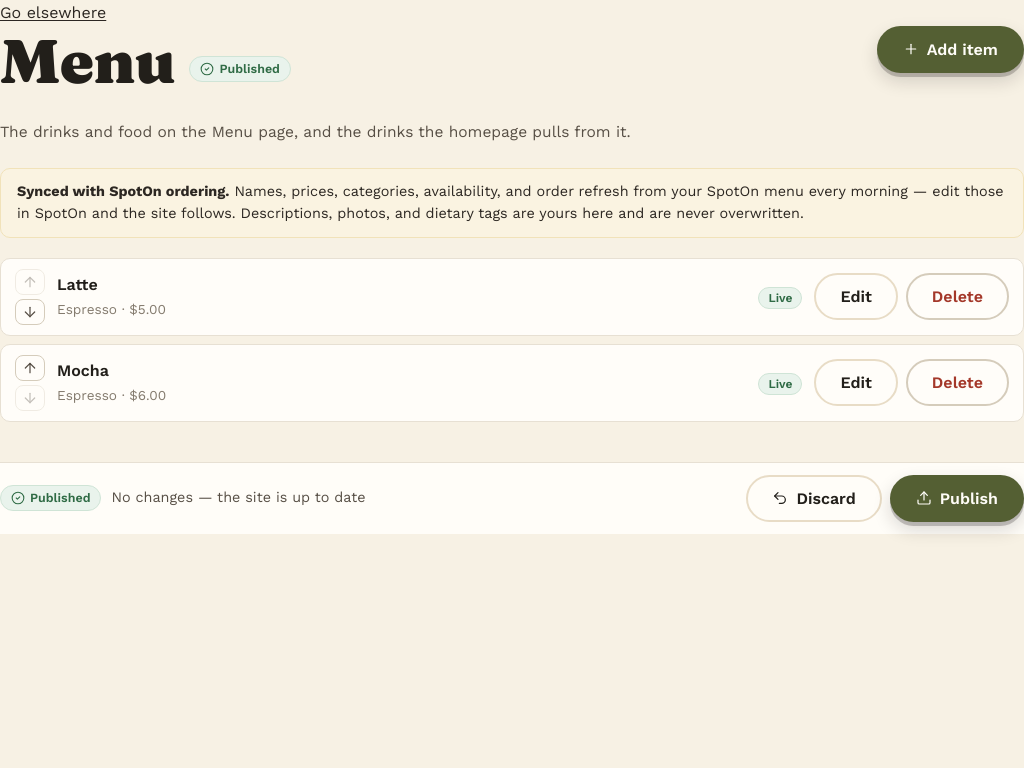
Test case: Lists (Menu via CollectionManager) › re-ordering and adding are staged until Publish
Click the button named "move mocha up" at [30, 368], box [15,354,45,380]
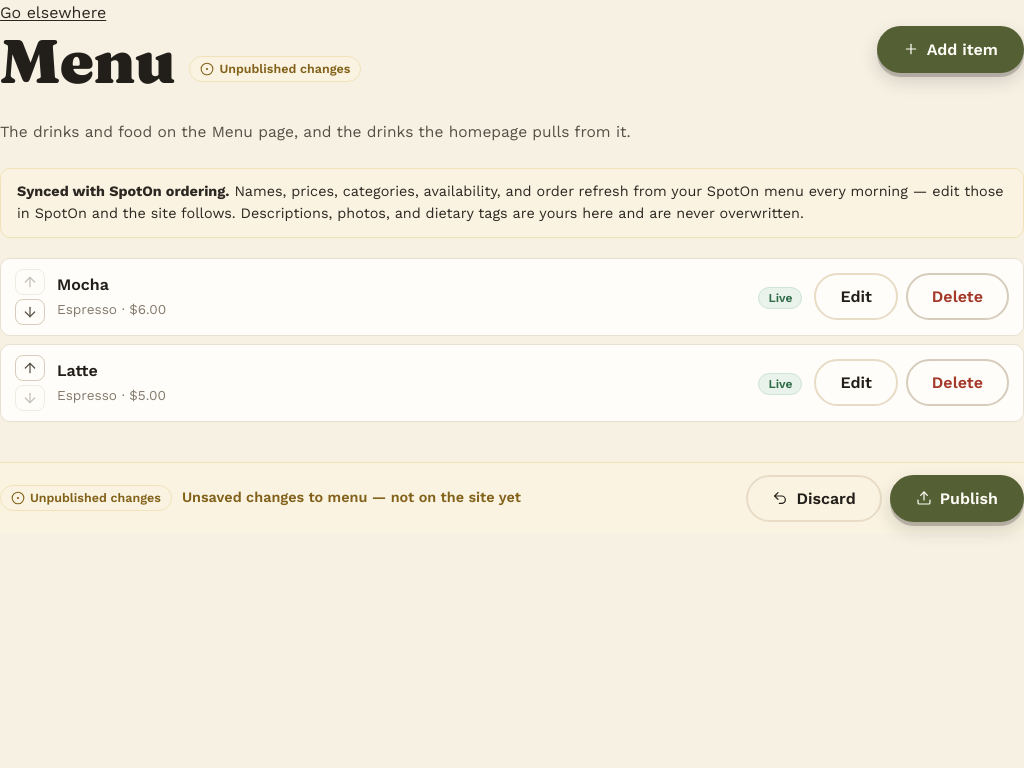
Click the button "Add item" at [950, 49], box [877,26,1023,73]
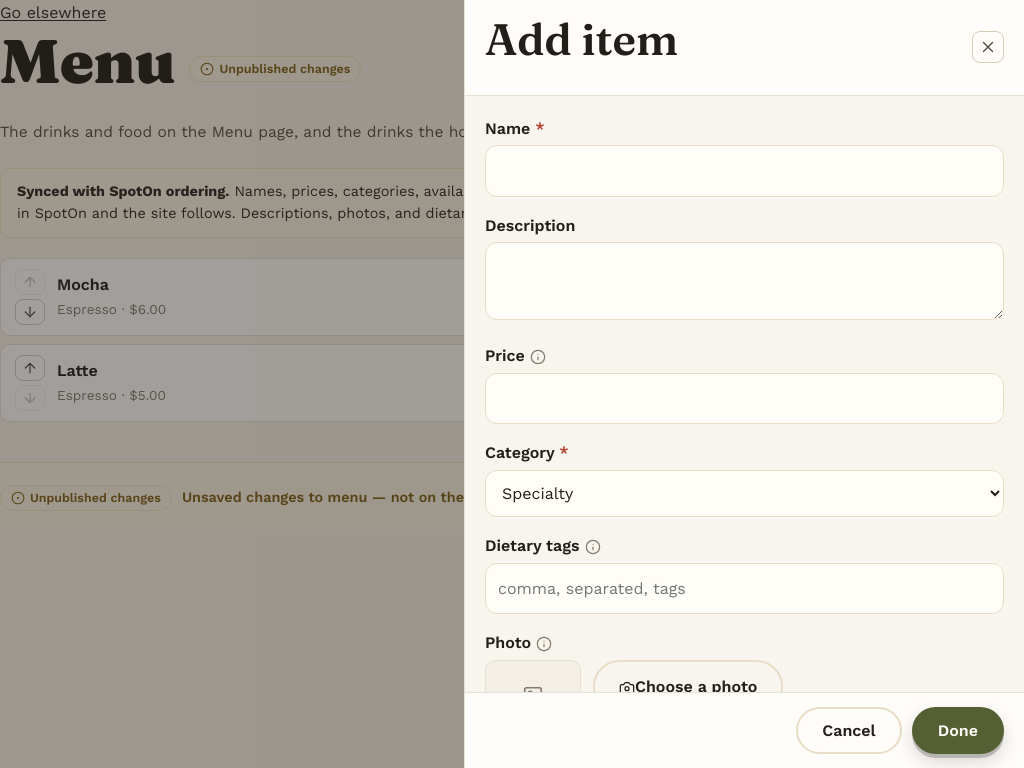
Type "Cortado" into the field labelled "Name *" at [744, 171], box [485,145,1004,197]
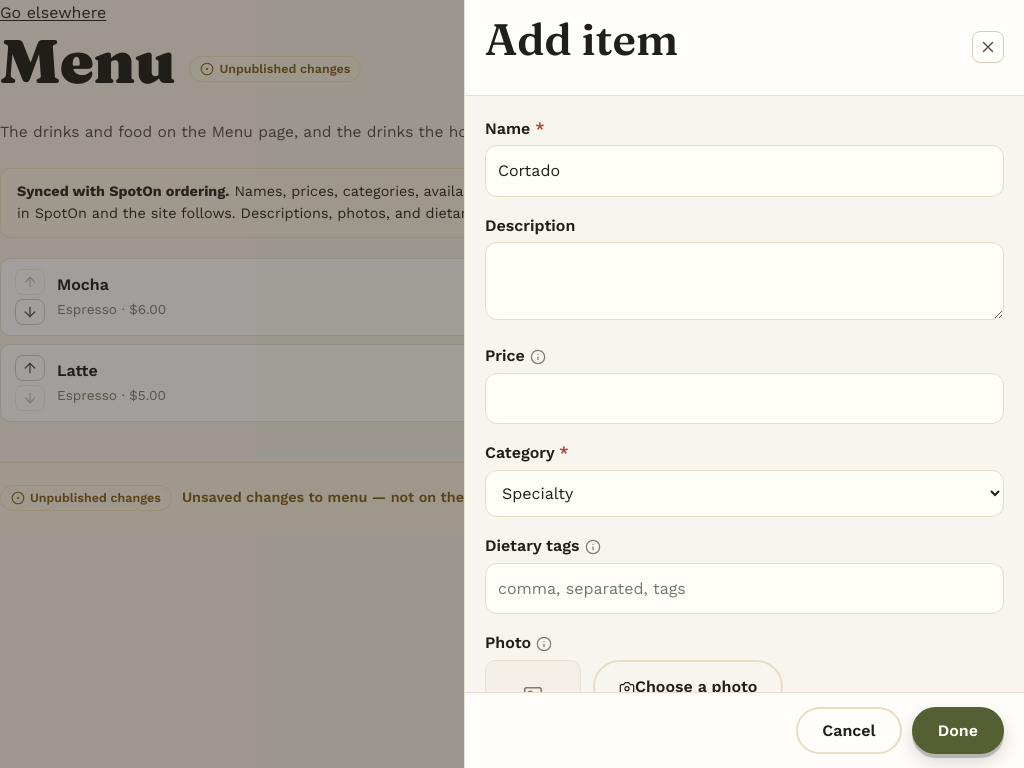
Click the button "Done" at [958, 730], box [912,707,1004,754]
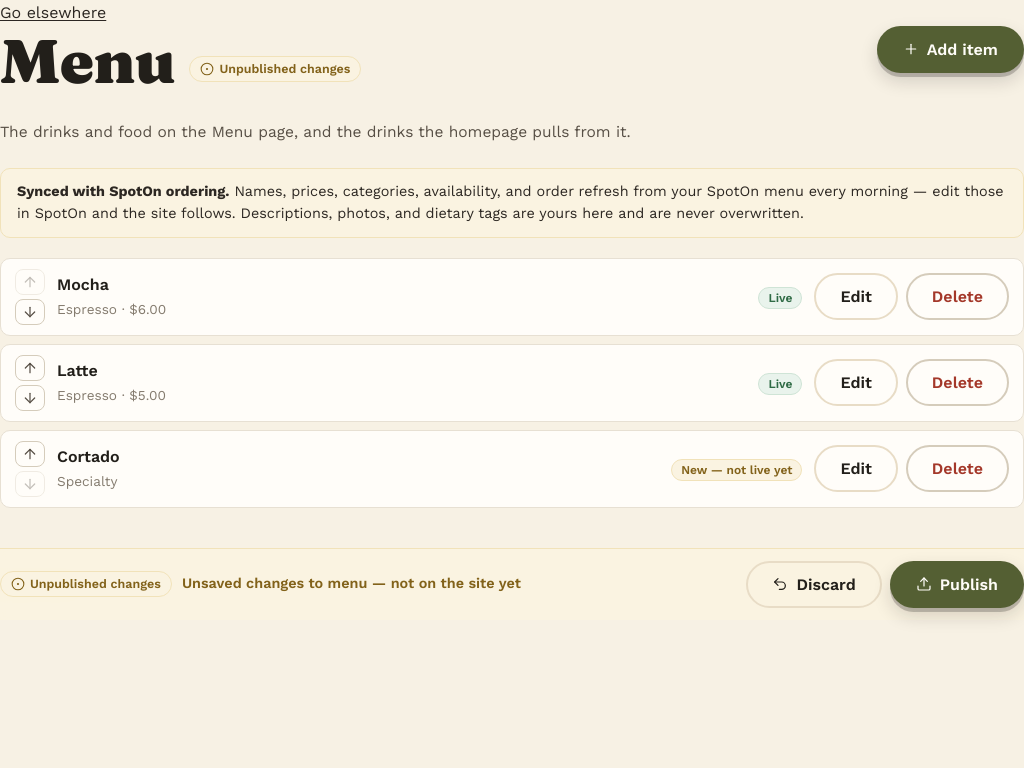
Click the button "Publish" at [957, 584], box [890,560,1023,608]
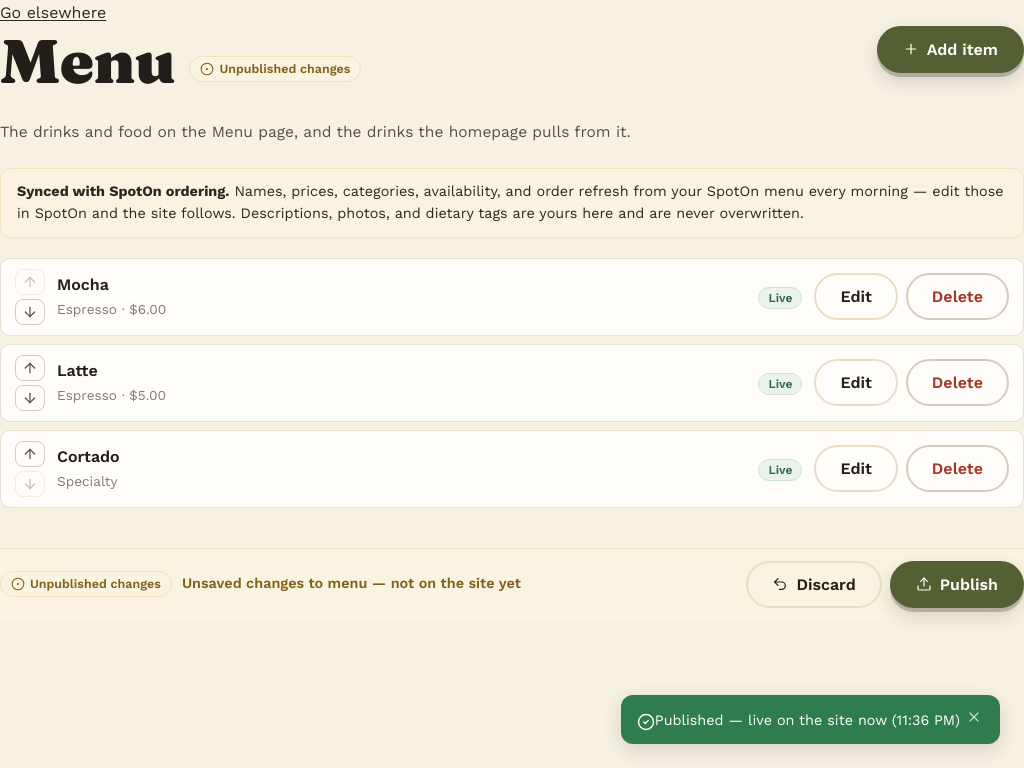
Check: the text "Published — live on the site now (11:36 PM)" is shown, box [655,712,960,728]
